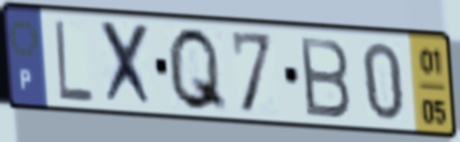0: (359, 40, 407, 124)
7: (230, 27, 277, 117)
B: (296, 33, 354, 121)
L: (52, 16, 97, 106)
Q: (165, 24, 231, 116)
X: (97, 17, 158, 112)
